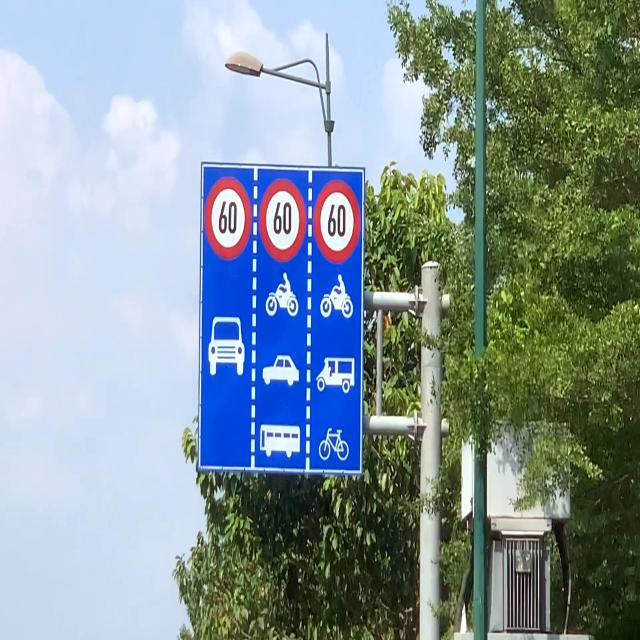P.127: (204, 176, 252, 261), (314, 179, 361, 264), (259, 178, 306, 262)
